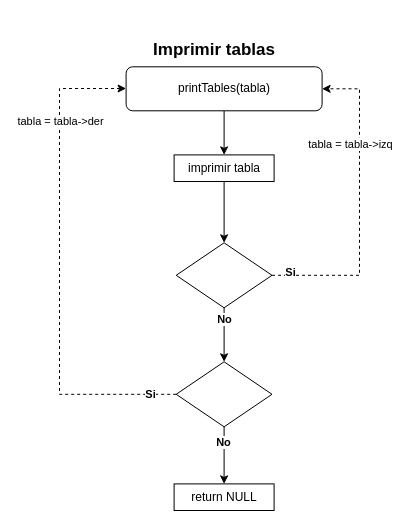
Some shapes in this 409 by 528 pixel diagram are drawn without their labels. The centre of each missing label's shape, as x and y in pixels:
"tabla->der != NULL" goes at pixel 223 394.
"tabla->izq != NULL" goes at pixel 223 275.
